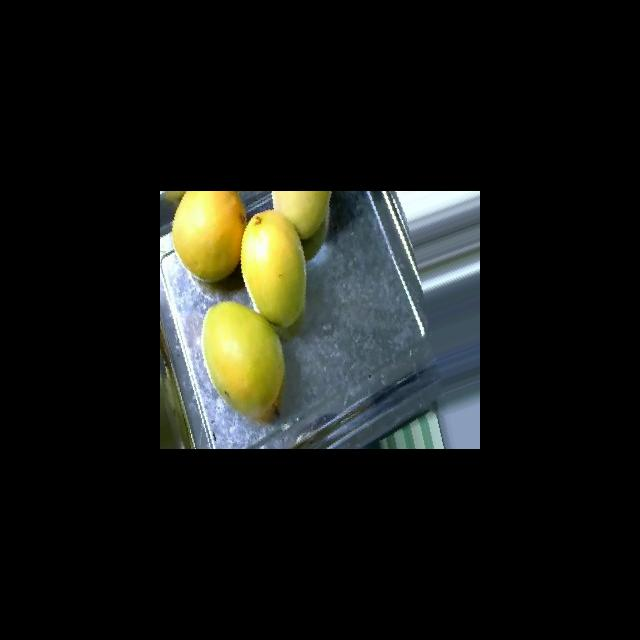Mango: (200, 300, 285, 424), (240, 209, 306, 327), (171, 191, 246, 282), (270, 191, 332, 240)
